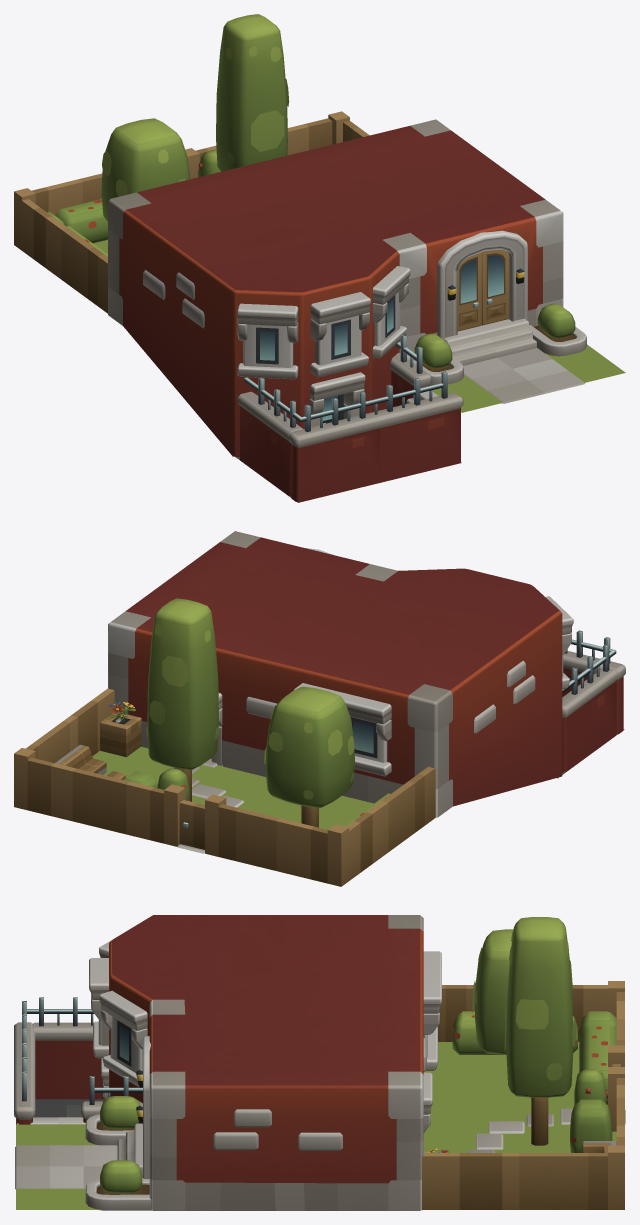
The model's file is apartment_type2_ground_red.fbx.
The picture shows the model from 3 angles, top to bottom: view 1: azimuth 30°, elevation 25°; view 2: azimuth 150°, elevation 25°; view 3: azimuth 270°, elevation 25°; orthographic projection. The views are drawn at different scales.
Visible parts, largest first — view 1: apartment_type2_ground_red, door_front_right_apartment_type2_ground, door_front_left_apartment_type2_ground; view 2: apartment_type2_ground_red, door_garden_apartment_type2_ground; view 3: apartment_type2_ground_red.
Part boxes in pixels (<box>): apartment_type2_ground_red: <box>14,14,625,502</box>; door_front_right_apartment_type2_ground: <box>482,249,509,325</box>; door_front_left_apartment_type2_ground: <box>457,252,481,331</box>; apartment_type2_ground_red: <box>14,531,625,886</box>; door_garden_apartment_type2_ground: <box>179,800,204,849</box>; apartment_type2_ground_red: <box>14,915,625,1210</box>.
Size of the model in its own units: 1230 by 889 by 1809.
